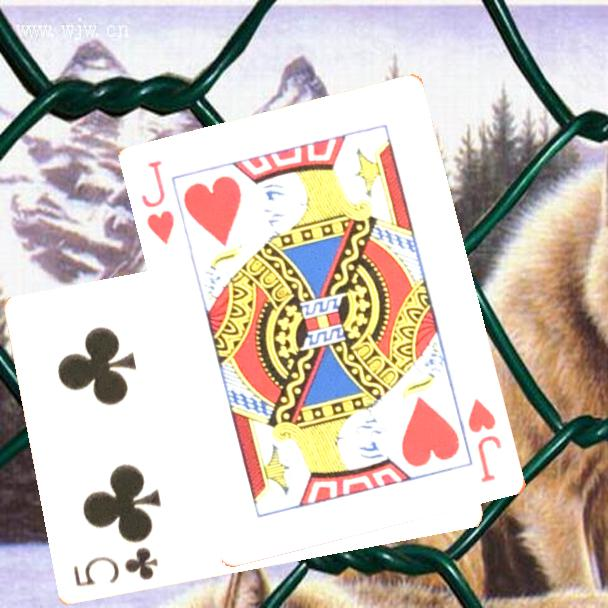c05: (69, 544, 161, 590)
h11: (465, 395, 505, 486), (138, 157, 178, 248)
